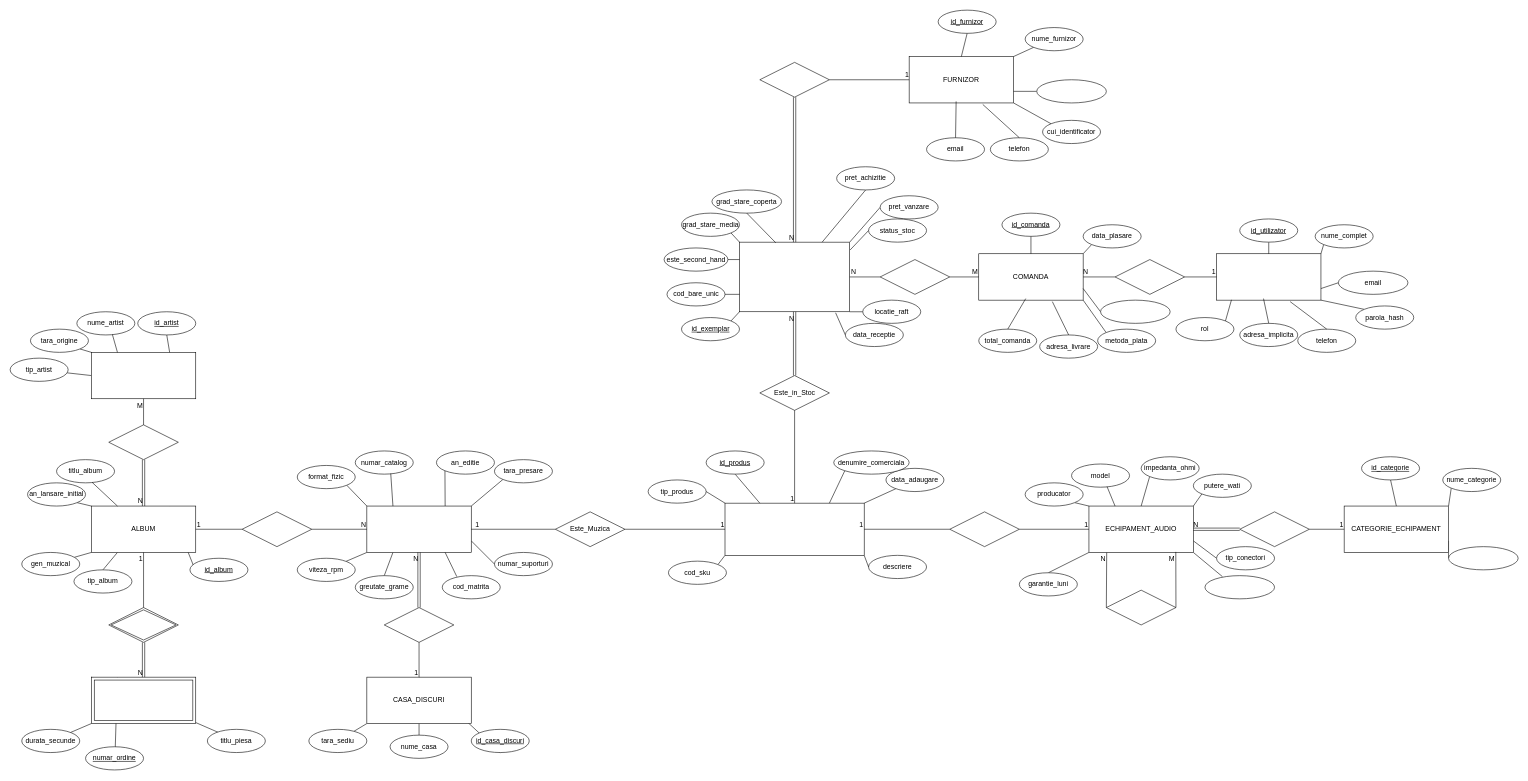
The diagram is 1528 pixels wide and 781 high, and some of its shapes have lost their labels. Here are the shapes that lost their labels. From the top down, the centre of each, then its label:
At pixel 794 79: "Aprovizioneaza".
At pixel 1071 91: "tip_furnizor".
At pixel 794 277: "EXEMPLAR_STOC".
At pixel 915 276: "Include".
At pixel 1149 276: "Plaseaza".
At pixel 1268 276: "UTILIZATOR".
At pixel 1135 311: "status_comanda".
At pixel 143 375: "ARTIST".
At pixel 143 442: "Compune".
At pixel 277 529: "Are_Editia".
At pixel 418 528: "EDITIE_MUZICALA".
At pixel 794 529: "PRODUS".
At pixel 984 529: "Este_Echipament".
At pixel 1274 529: "Clasifica".
At pixel 1483 558: "descriere_categorie".
At pixel 1141 607: "Este_Compatibil".
At pixel 1239 587: "specificatii_montura".
At pixel 143 624: "Contine".
At pixel 419 624: "Lanseaza".
At pixel 143 700: "PIESA".
